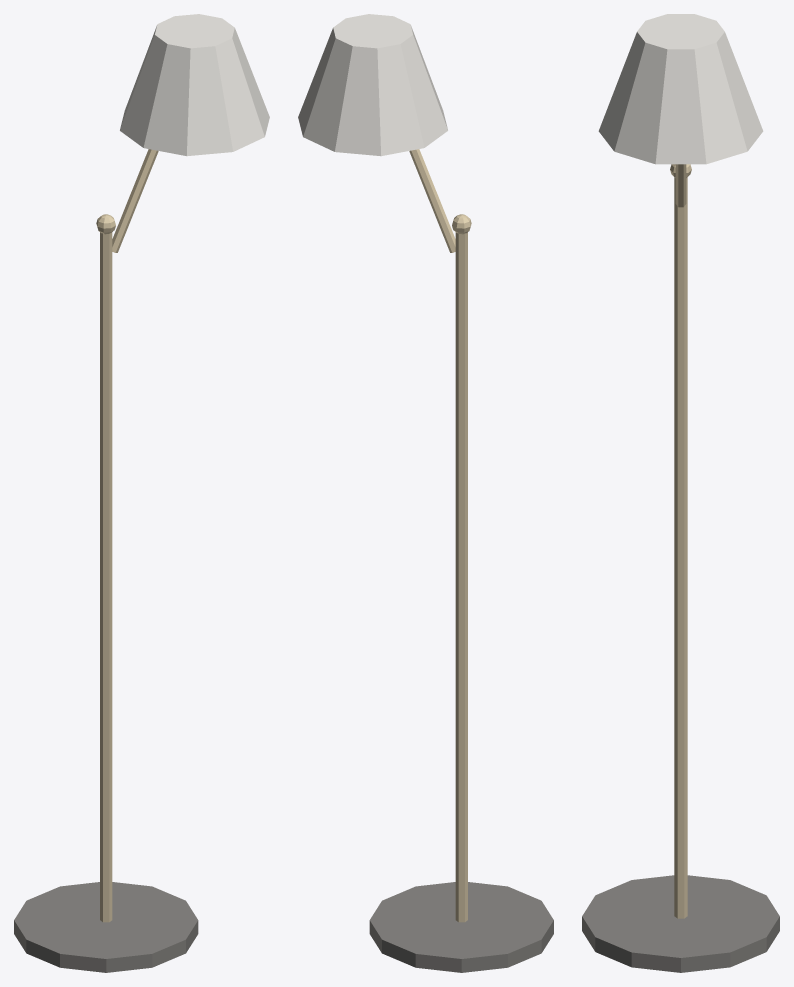
File: floor_lamp.glb
The picture shows the model from 3 angles, left to right: view 1: azimuth 30°, elevation 25°; view 2: azimuth 150°, elevation 25°; view 3: azimuth 270°, elevation 25°; orthographic projection. The views are drawn at different scales.
Visible parts, largest first — view 1: FloorLamp; view 2: FloorLamp; view 3: FloorLamp.
Boxes of the visible parts, x1,y1,x2,y2 form: FloorLamp: (14,14,269,972); FloorLamp: (298,14,553,972); FloorLamp: (582,14,779,972).
Size of the model in its own units: 0.5227 by 1.9 by 0.36.
